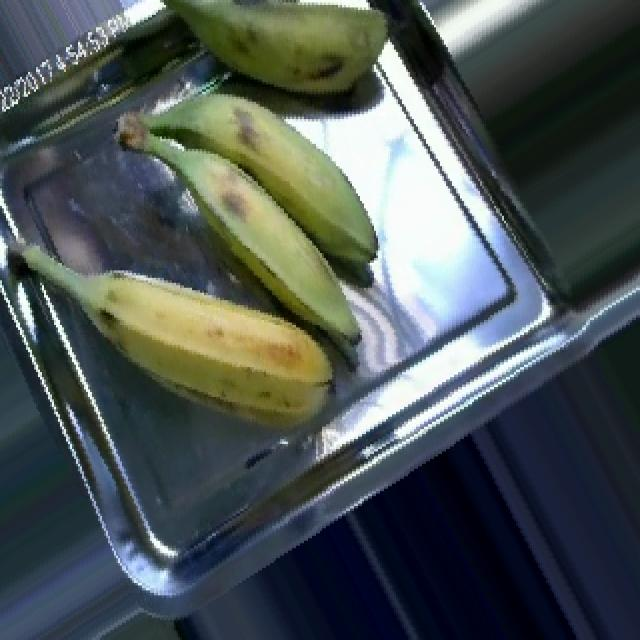banana: (48, 213, 355, 468)
